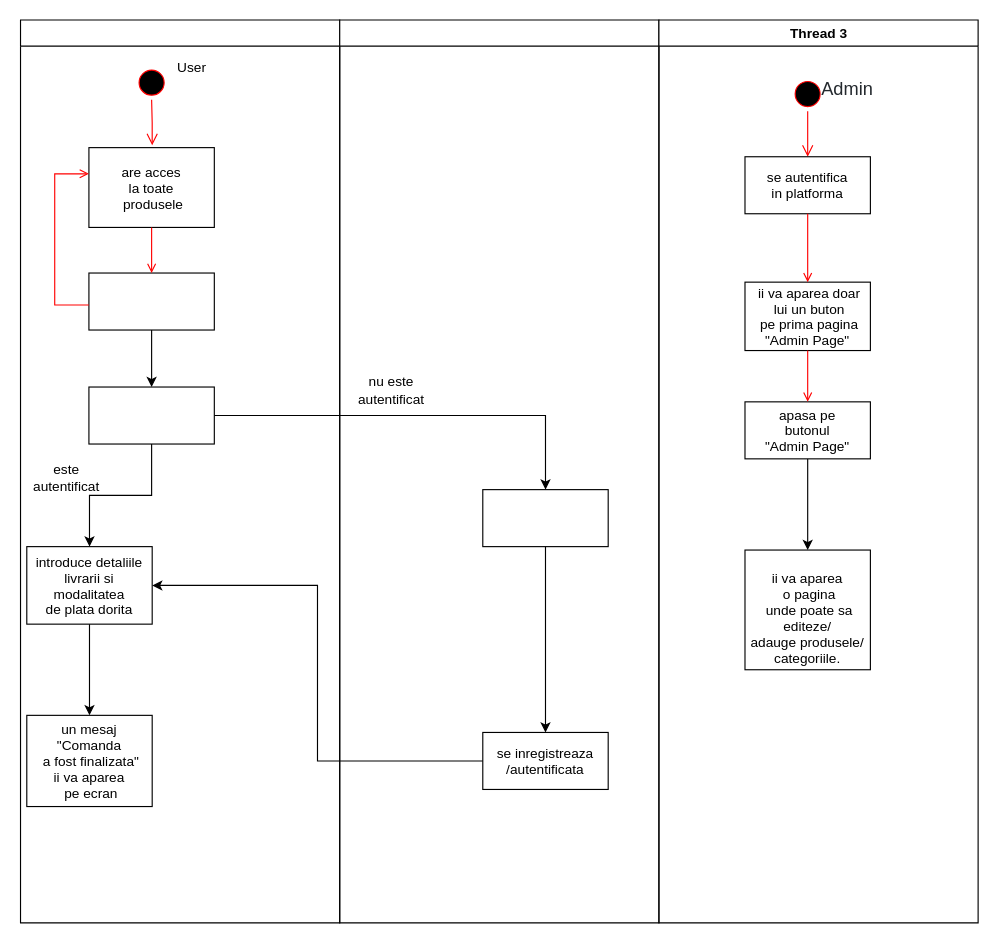
Some shapes in this 998 by 943 pixel diagram are drawn without their labels. Each missing label, with the box of its shape:
apasa pe finalizare comanda: (88, 386, 214, 444)
ii va aparea pagina de login/signup: (482, 488, 608, 547)
poate adauga produse in cos: (88, 272, 214, 330)
Thread 1: (19, 19, 340, 923)
Thread 2: (339, 19, 659, 923)
